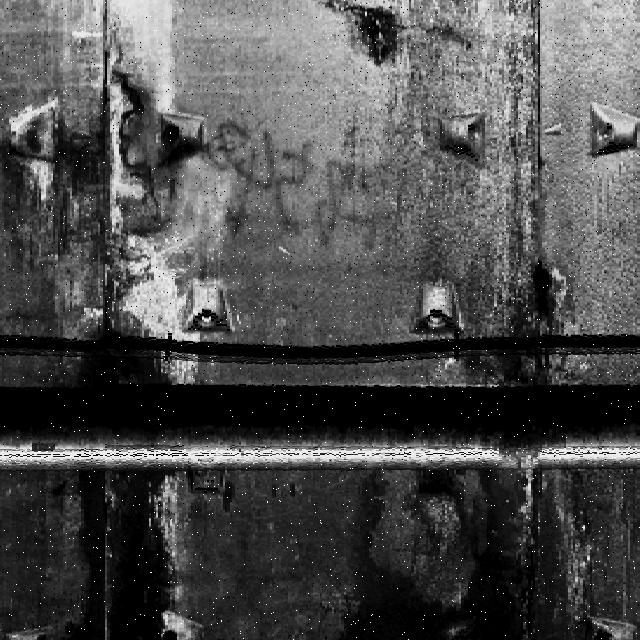leakage: (22, 308, 200, 639), (339, 455, 629, 639), (449, 5, 586, 385)
